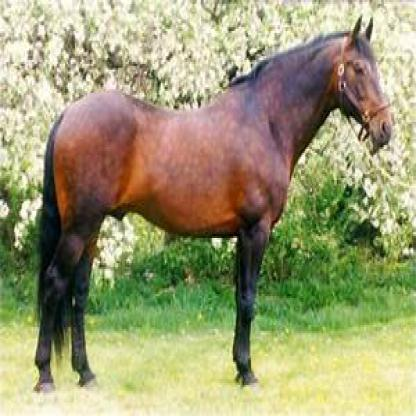horse: (34, 13, 392, 392)
